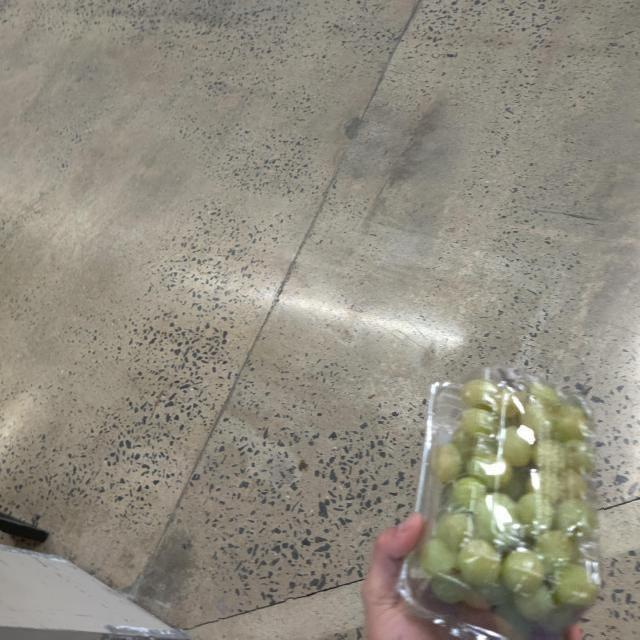Grapes: (398, 369, 604, 639)
